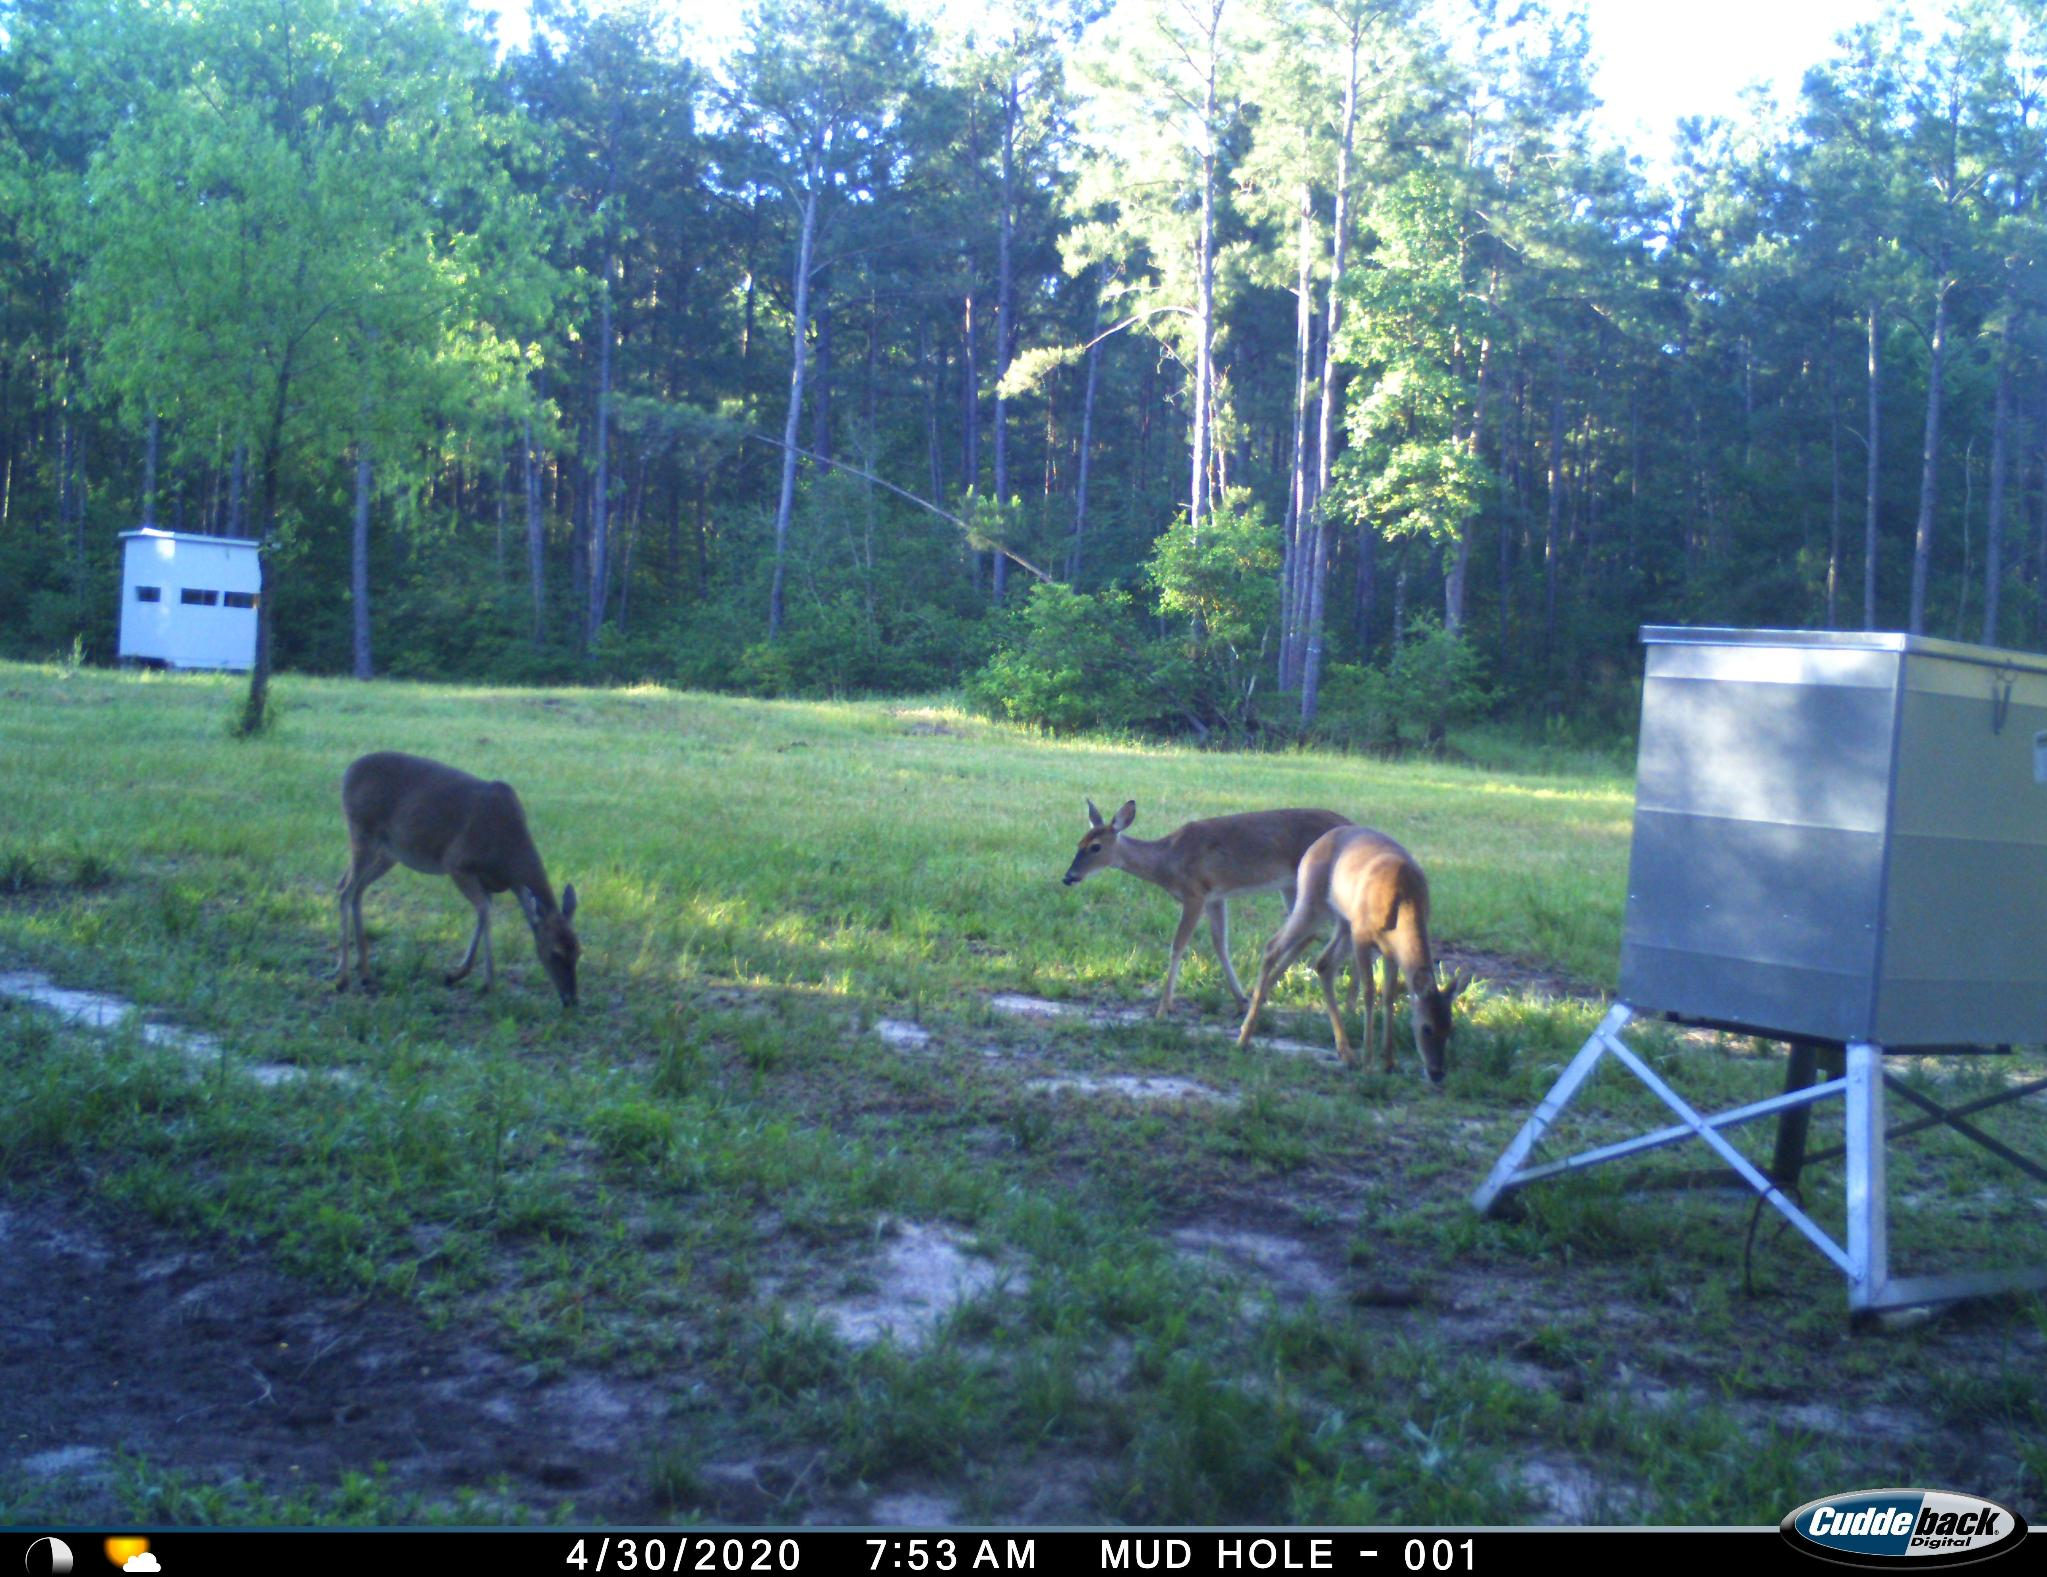Deer: (335, 740, 598, 1017), (1063, 795, 1371, 1027), (1247, 823, 1459, 1097)
